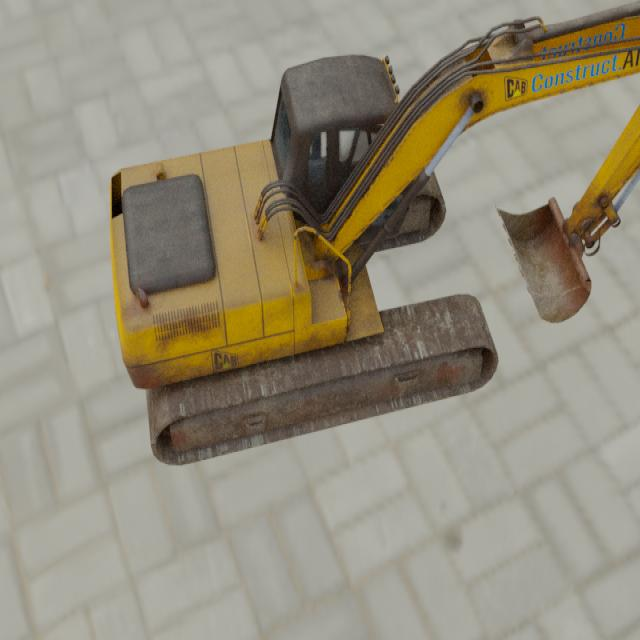excavator: (109, 0, 640, 467)
